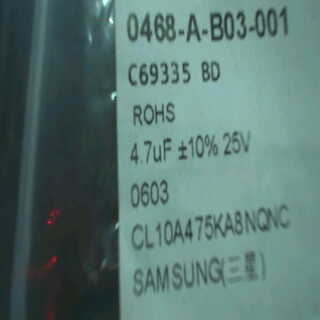4.7uF: (128, 129, 173, 168)
